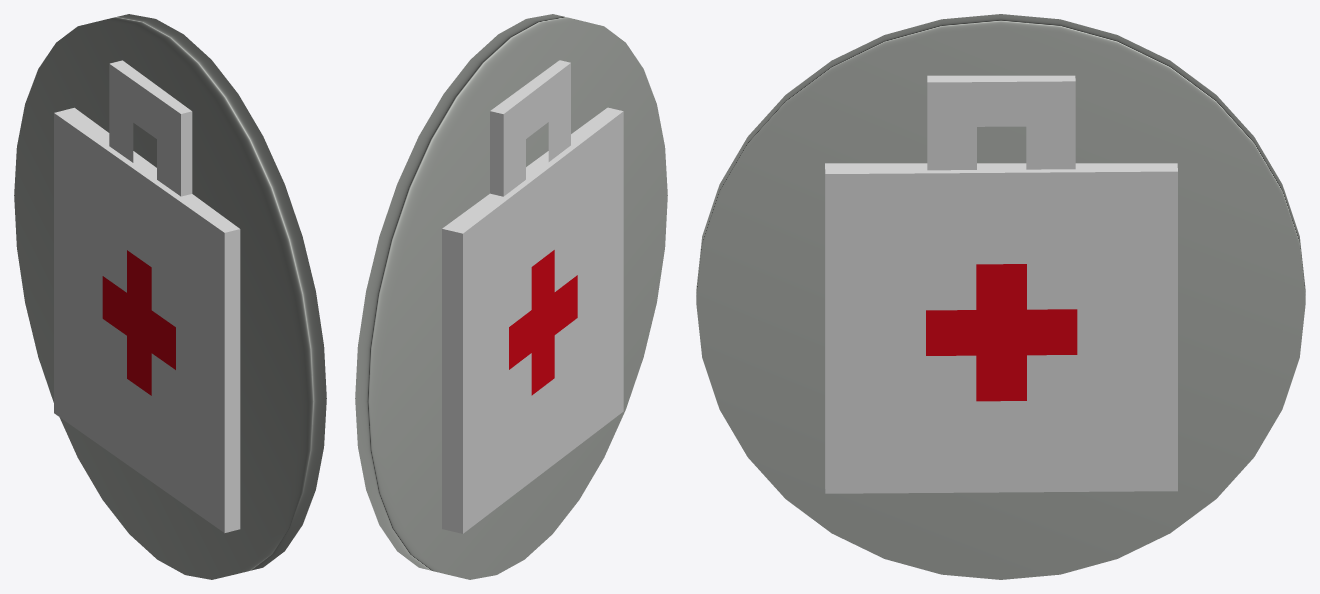
Rendered from healicon2.fbx.
3 renders of one model, left to right at view 1: azimuth 30°, elevation 25°; view 2: azimuth 150°, elevation 25°; view 3: azimuth 270°, elevation 25°, orthographic. The views are drawn at different scales.
Parts seen in each view (by area): view 1: Cylinder; view 2: Cylinder; view 3: Cylinder.
Part boxes in pixels (bbox=[...]): Cylinder: bbox=[14, 14, 326, 579]; Cylinder: bbox=[355, 14, 667, 579]; Cylinder: bbox=[696, 14, 1305, 579].
Bounding box in the file's own units: 50.46 × 368 × 368.
